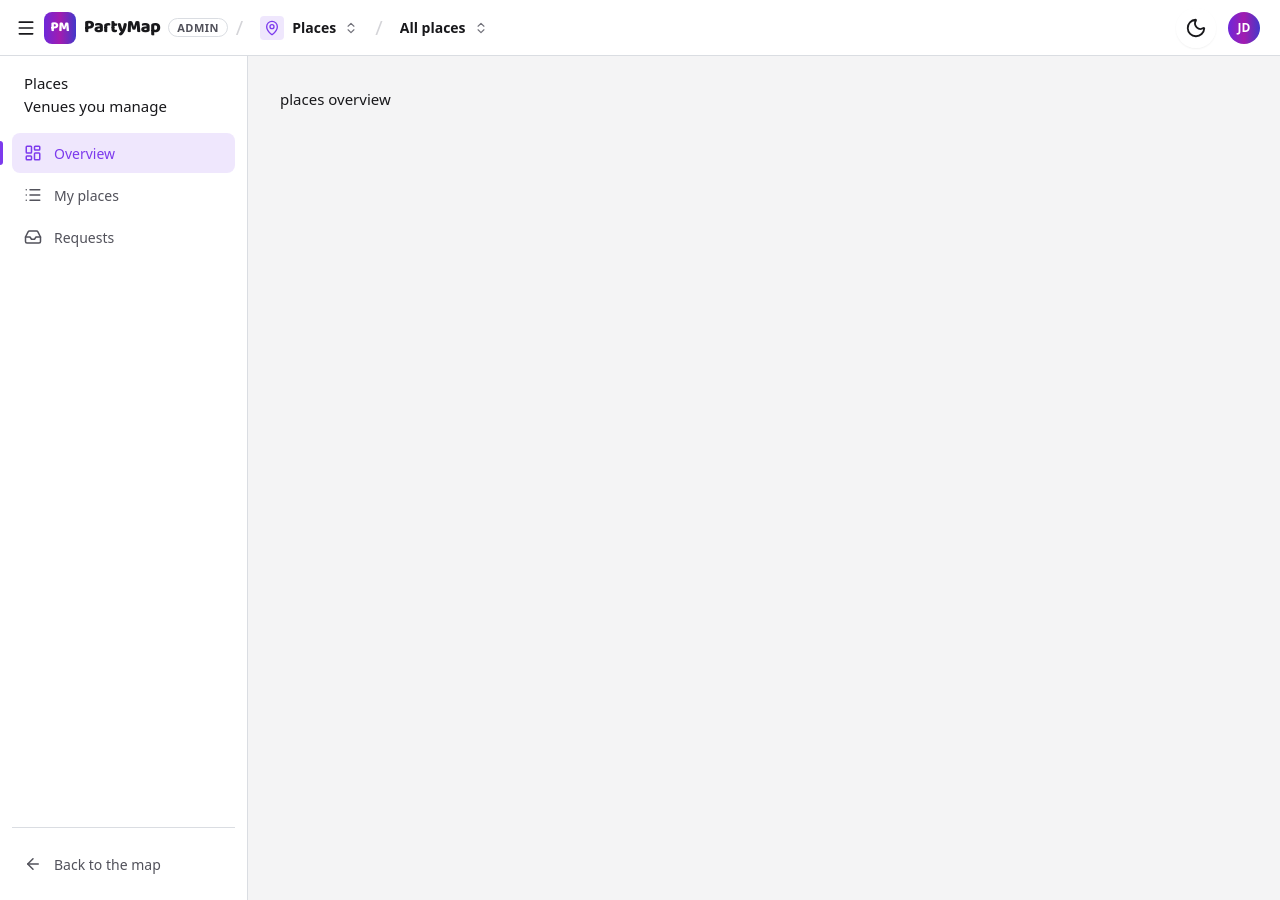
Test: AdminShell › switches between the domains the user's roles unlock
Click the button with aria-label "Admin domain: Places. Switch domain".
click(309, 28)  # box [251,10,367,46]
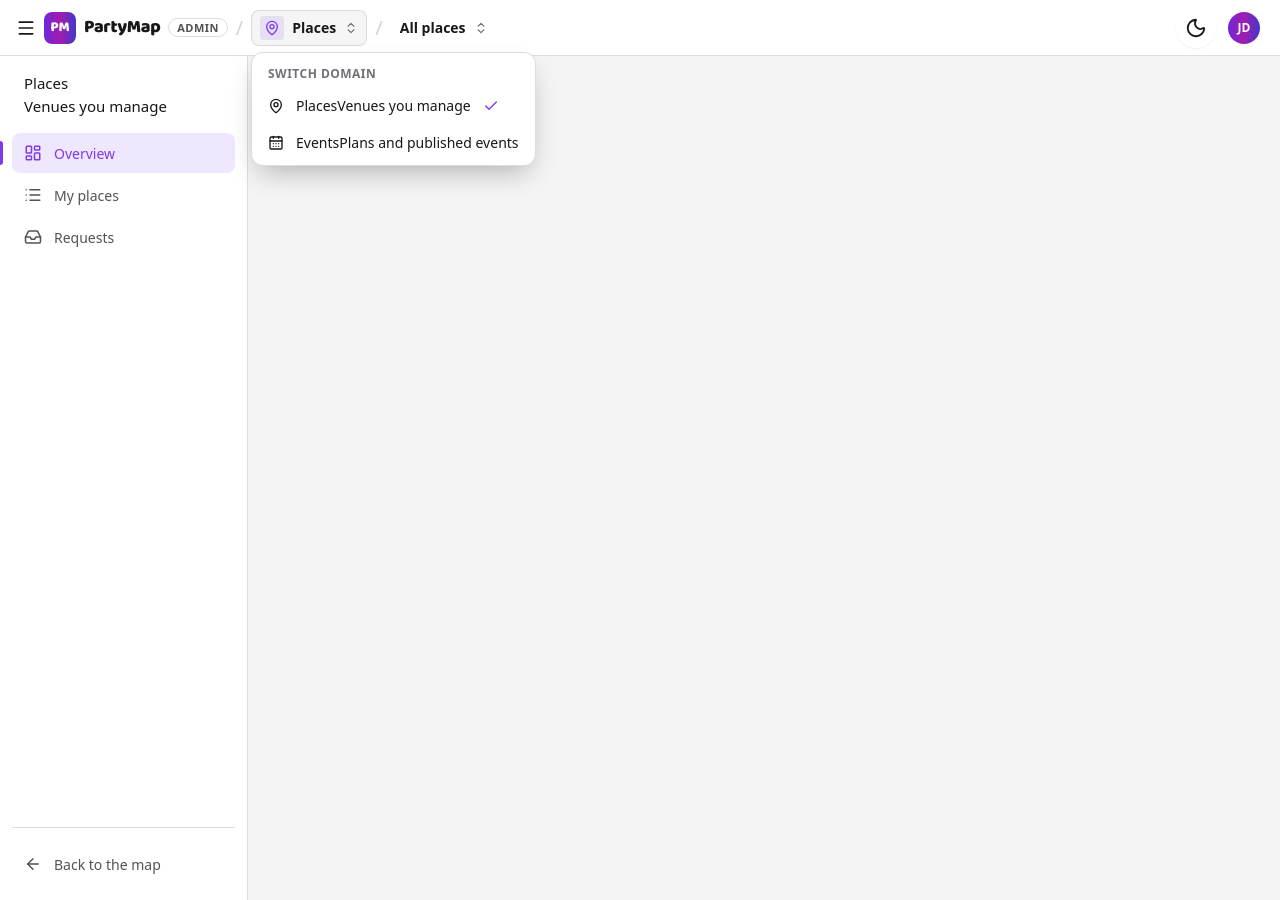
Click the menu item that starts with "Events".
click(393, 142)  # box [268,133,518,152]
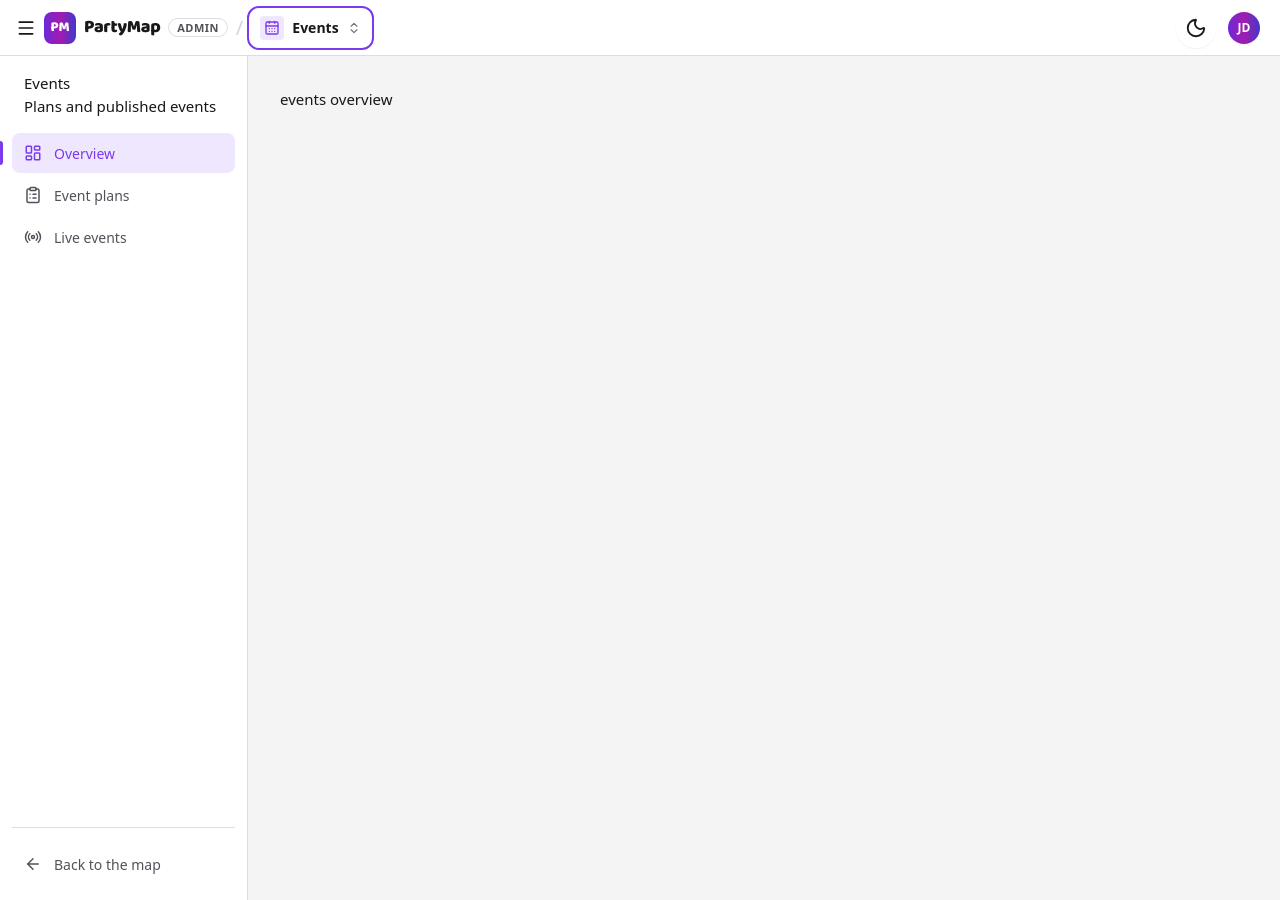
Now the text "events overview" is shown, box [280,89,392,109]
Now the button with aria-label "Admin domain: Events. Switch domain" is shown, box [251,10,370,46]
